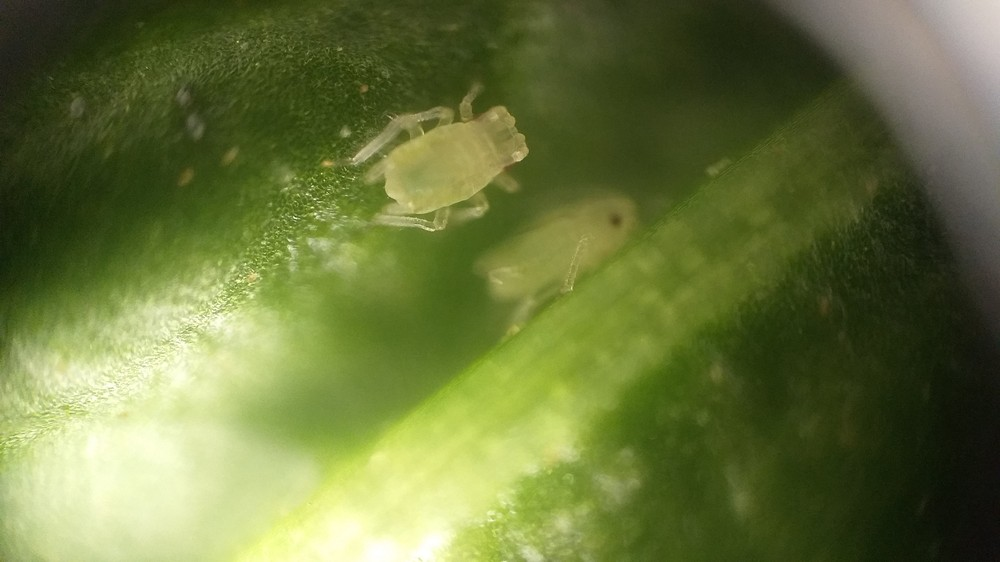Pulgon: (338, 76, 552, 239), (469, 182, 661, 339)
